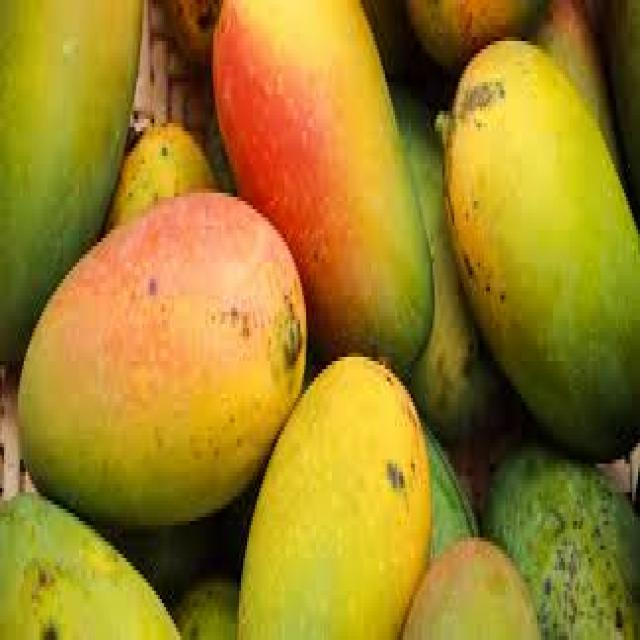Mango: (432, 29, 640, 476), (211, 0, 447, 384), (28, 198, 296, 525), (239, 361, 441, 640), (0, 0, 138, 330)
